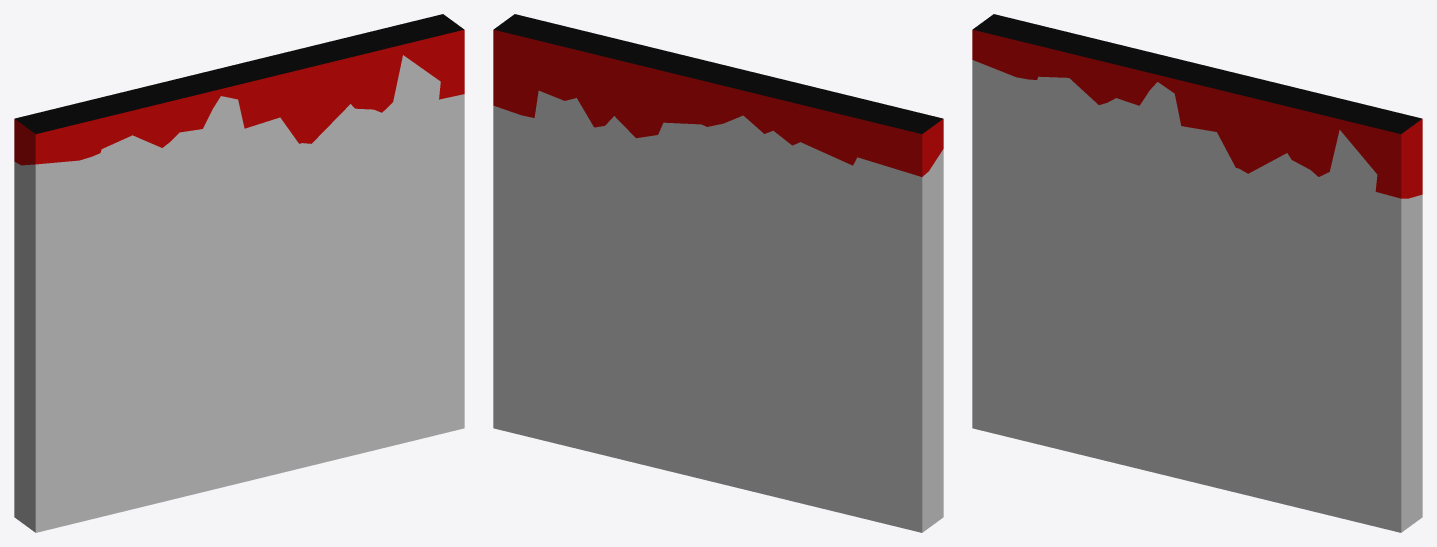
File: rayfireTest03 1.fbx
3 renders of one model, left to right at view 1: azimuth 30°, elevation 25°; view 2: azimuth 150°, elevation 25°; view 3: azimuth 330°, elevation 25°, orthographic.
Visible parts, largest first — view 1: Box002_frag_147, Box002_frag_154, Box002_frag_015, Box002_frag_135, Box002_frag_052, Box002_frag_108, Box002_frag_034, Box002_frag_048, Box002_frag_122, Box002_frag_044, Box002_frag_112, Box002_frag_103 (+96 smaller); view 2: Box002_frag_130, Box002_frag_135, Box002_frag_068, Box002_frag_164, Box002_frag_170, Box002_frag_148, Box002_frag_151, Box002_frag_150, Box002_frag_075, Box002_frag_008, Box002_frag_119, Box002_frag_154 (+99 smaller); view 3: Box002_frag_154, Box002_frag_147, Box002_frag_015, Box002_frag_048, Box002_frag_135, Box002_frag_052, Box002_frag_108, Box002_frag_122, Box002_frag_044, Box002_frag_103, Box002_frag_158, Box002_frag_026 (+96 smaller).
Part boxes in pixels (x1,y1,x2,y2): Box002_frag_147: [14, 268, 96, 361]; Box002_frag_154: [14, 153, 109, 270]; Box002_frag_015: [14, 337, 107, 419]; Box002_frag_135: [14, 102, 104, 165]; Box002_frag_052: [280, 48, 346, 143]; Box002_frag_108: [267, 143, 337, 214]; Box002_frag_034: [14, 160, 80, 250]; Box002_frag_048: [385, 14, 464, 81]; Box002_frag_122: [335, 38, 402, 112]; Box002_frag_044: [74, 229, 150, 296]; Box002_frag_112: [14, 418, 81, 472]; Box002_frag_103: [105, 156, 175, 212]; Box002_frag_130: [862, 247, 937, 344]; Box002_frag_135: [854, 102, 943, 176]; Box002_frag_068: [787, 92, 874, 165]; Box002_frag_164: [848, 157, 928, 240]; Box002_frag_170: [604, 43, 663, 138]; Box002_frag_148: [493, 29, 538, 117]; Box002_frag_151: [641, 58, 703, 124]; Box002_frag_150: [785, 223, 865, 278]; Box002_frag_075: [596, 387, 653, 459]; Box002_frag_008: [868, 371, 941, 437]; Box002_frag_119: [536, 39, 601, 100]; Box002_frag_154: [848, 189, 943, 263]; Box002_frag_154: [972, 79, 1046, 176]; Box002_frag_147: [972, 166, 1032, 260]; Box002_frag_015: [972, 257, 1043, 318]; Box002_frag_048: [1334, 104, 1421, 174]; Box002_frag_135: [972, 14, 1061, 79]; Box002_frag_052: [1217, 82, 1283, 168]; Box002_frag_108: [1204, 168, 1274, 246]; Box002_frag_122: [1283, 92, 1344, 176]; Box002_frag_044: [1010, 158, 1087, 227]; Box002_frag_103: [1042, 94, 1112, 159]; Box002_frag_158: [1356, 340, 1422, 405]; Box002_frag_026: [1348, 191, 1408, 263].
Size of the model in its own units: 37.6 by 33.41 by 3.25.
